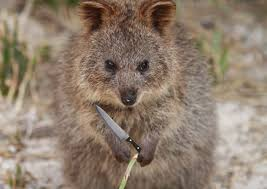quokka: (53, 1, 210, 189)
